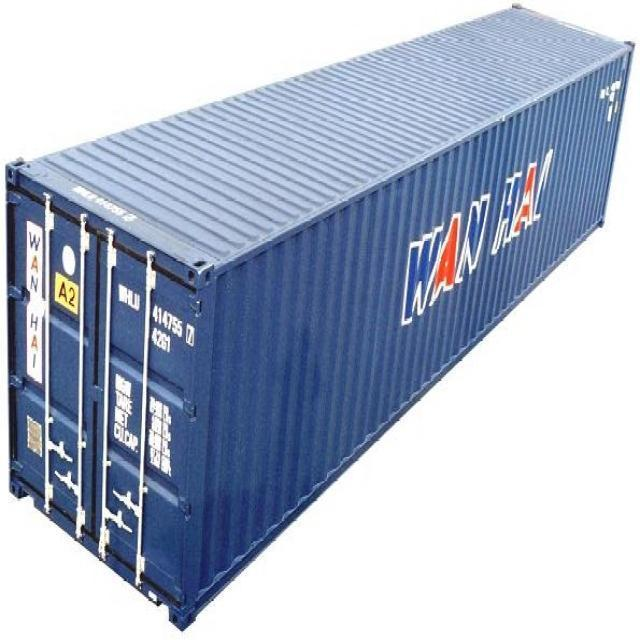container_number_h: (115, 280, 198, 357)
